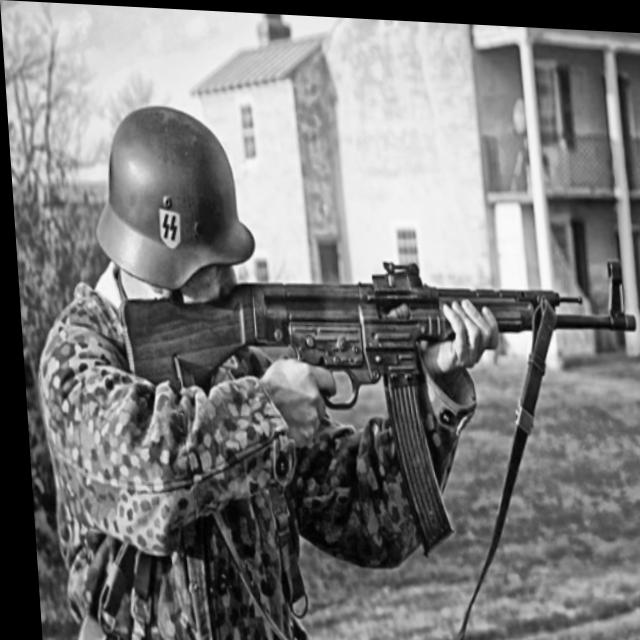other: (28, 94, 344, 640)
